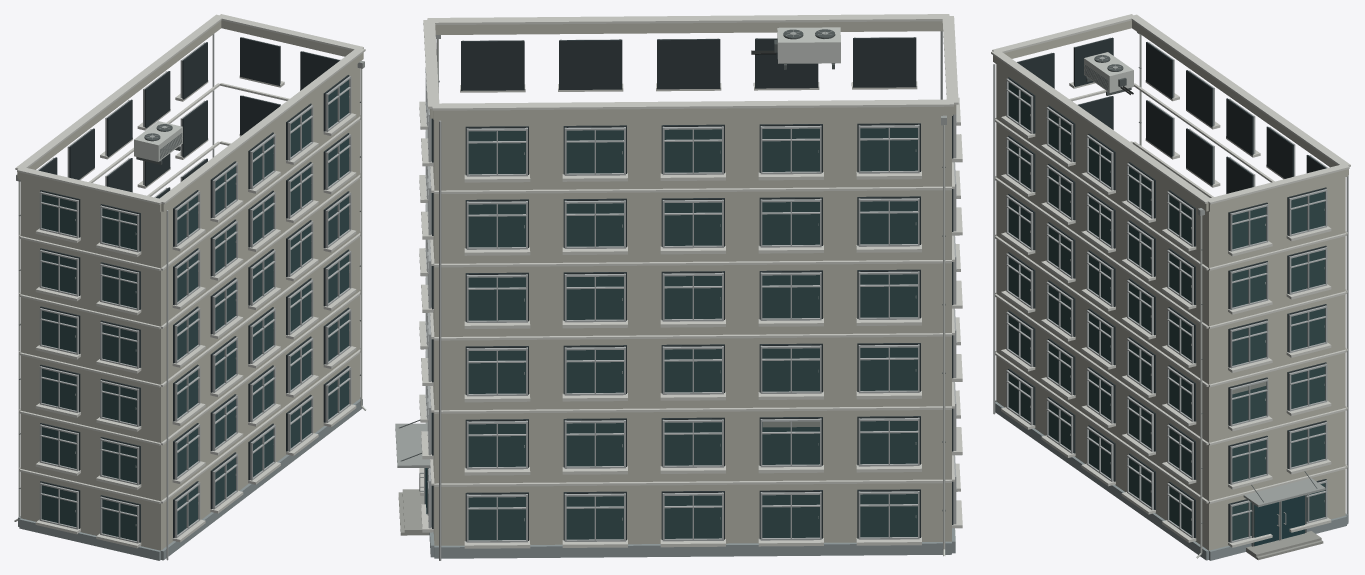
File: osm_way_225267146.glb
3 views of the same model, side by side, from view 1: azimuth 30°, elevation 25°; view 2: azimuth 150°, elevation 25°; view 3: azimuth 270°, elevation 25° (orthographic). The views are drawn at different scales.
Parts seen in each view (by area): view 1: Windows and facade details | osm_way_225267146, Architecture | osm_way_225267146, Roof services | osm_way_225267146, EXTERIOR::osm_way_225267146::rainwater and roof service deta; view 2: Windows and facade details | osm_way_225267146, Architecture | osm_way_225267146, Roof services | osm_way_225267146, EXTERIOR::osm_way_225267146::rainwater and roof service deta, EXTERIOR::osm_way_225267146::inferred entry doors canopy and; view 3: Windows and facade details | osm_way_225267146, Architecture | osm_way_225267146, Roof services | osm_way_225267146, EXTERIOR::osm_way_225267146::inferred entry doors canopy and, EXTERIOR::osm_way_225267146::rainwater and roof service deta.
Part boxes in pixels (x1,y1,x2,y2): Windows and facade details | osm_way_225267146: (35,34,356,560); Architecture | osm_way_225267146: (17,20,363,560); Roof services | osm_way_225267146: (15,14,365,204); EXTERIOR::osm_way_225267146::rainwater and roof service deta: (14,60,366,521); Windows and facade details | osm_way_225267146: (419,31,962,560); Architecture | osm_way_225267146: (429,21,956,558); Roof services | osm_way_225267146: (423,14,958,110); EXTERIOR::osm_way_225267146::rainwater and roof service deta: (435,27,946,556); EXTERIOR::osm_way_225267146::inferred entry doors canopy and: (395,419,430,535); Windows and facade details | osm_way_225267146: (993,37,1348,547); Architecture | osm_way_225267146: (993,20,1348,560); Roof services | osm_way_225267146: (991,14,1350,204); EXTERIOR::osm_way_225267146::inferred entry doors canopy and: (1243,471,1325,560); EXTERIOR::osm_way_225267146::rainwater and roof service deta: (1084,32,1204,558).
Bounding box in the file's own units: 22.23 × 20.58 × 17.9.
